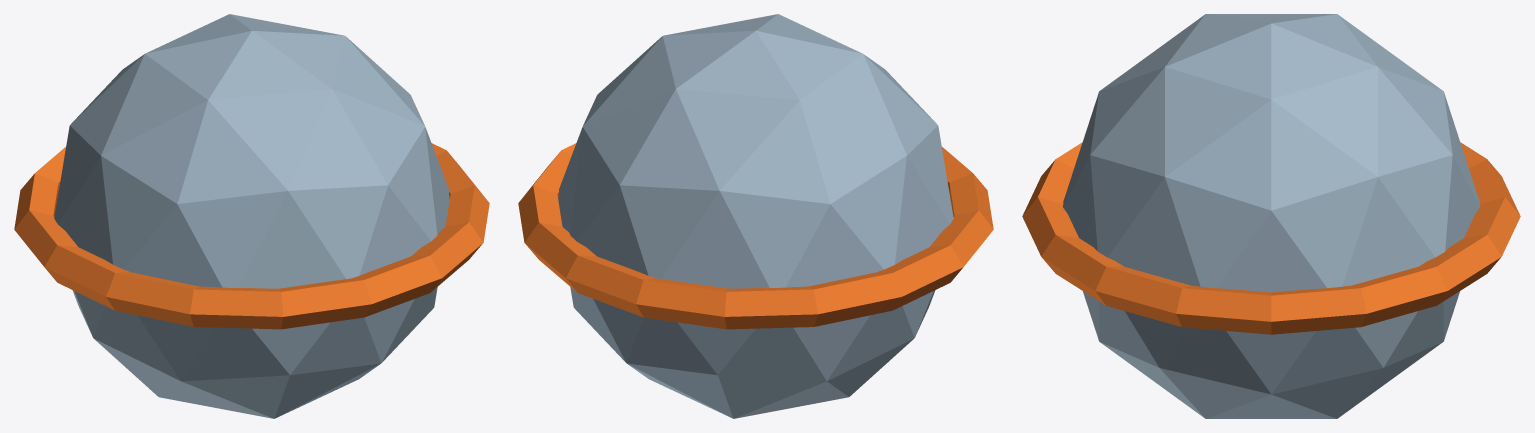
The model's file is mechanical_planet.glb.
3 renders of one model, left to right at view 1: azimuth 30°, elevation 25°; view 2: azimuth 150°, elevation 25°; view 3: azimuth 270°, elevation 25°, orthographic. The views are drawn at different scales.
Visible parts, largest first — view 1: mechanical_planet; view 2: mechanical_planet; view 3: mechanical_planet.
Boxes of the visible parts, x1,y1,x2,y2 form: mechanical_planet: (14,14,489,418); mechanical_planet: (518,14,993,418); mechanical_planet: (1022,14,1520,418).
Bounding box in the file's own units: 2.2 × 1.88 × 2.2.
